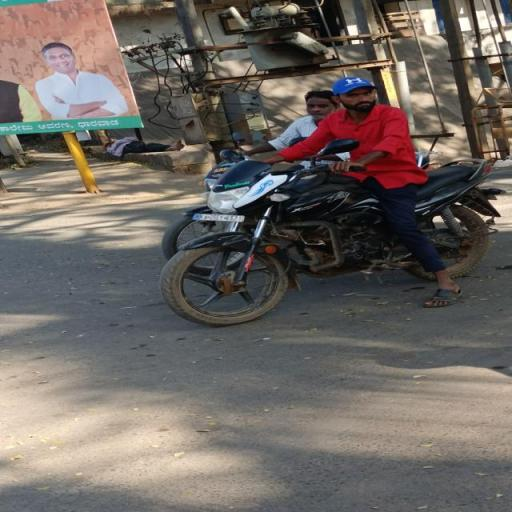bike: (150, 77, 504, 326), (504, 91, 510, 110)
numberplate: (190, 212, 247, 224)
withouthelmet: (334, 79, 376, 111)
